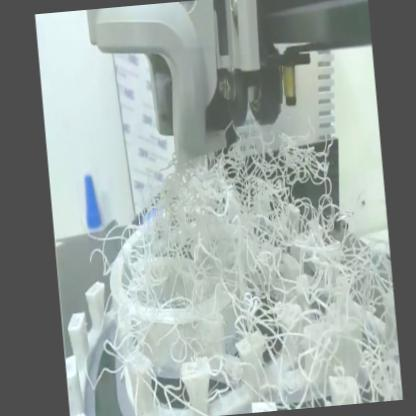fail: (106, 133, 403, 416)
